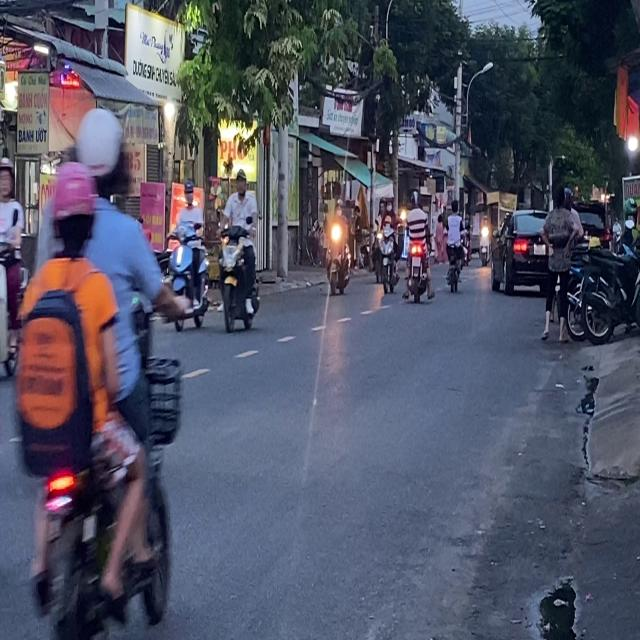helmet: (72, 104, 126, 203), (47, 158, 99, 259), (0, 156, 14, 197), (182, 178, 195, 204)
licenseplate: (2, 101, 190, 635), (216, 163, 262, 334), (0, 154, 30, 383)
motorcyclist: (234, 168, 248, 196)
